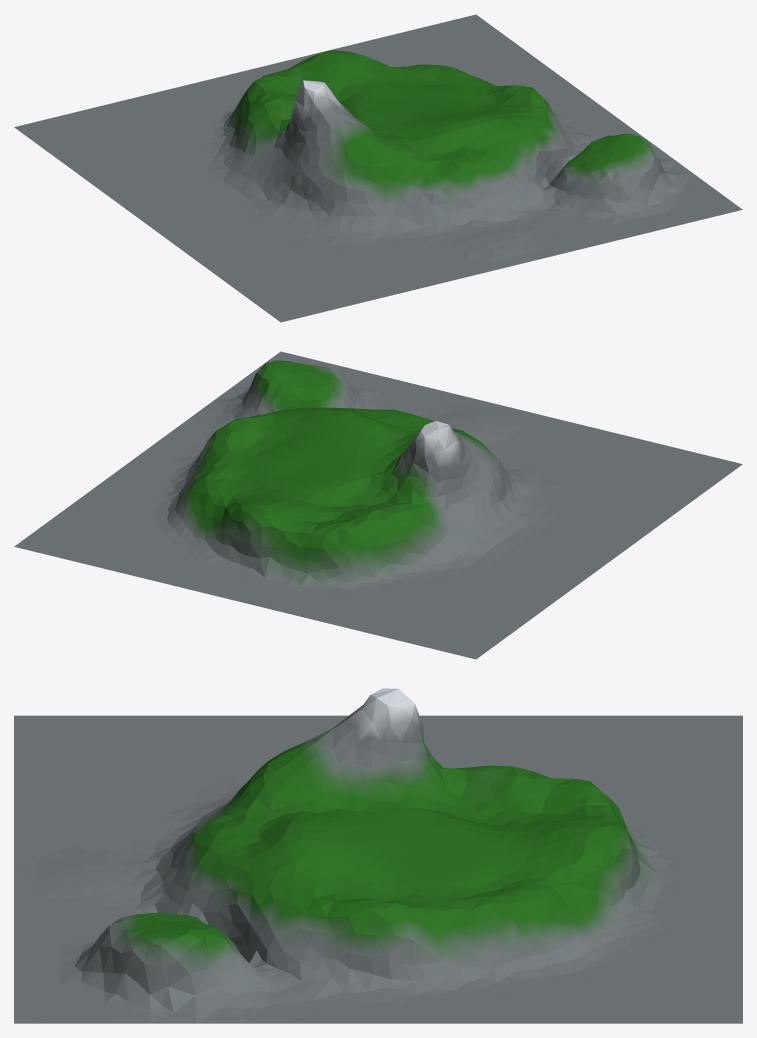
File: Map_Colored.fbx
3 views of the same model, one above another, from view 1: azimuth 30°, elevation 25°; view 2: azimuth 150°, elevation 25°; view 3: azimuth 270°, elevation 25° (orthographic). The views are drawn at different scales.
Visible parts, largest first — view 1: Plane; view 2: Plane; view 3: Plane.
Boxes of the visible parts, x1=… form: Plane: x1=14, y1=14, x2=742, y2=322; Plane: x1=14, y1=351, x2=742, y2=659; Plane: x1=14, y1=688, x2=742, y2=1023.
Size of the model in its own units: 20000 by 4370 by 20000.
